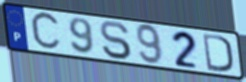2: (168, 28, 202, 71)
9: (136, 23, 166, 67), (69, 16, 96, 56)
C: (29, 10, 63, 53)
D: (201, 32, 235, 74)
S: (99, 20, 134, 62)
